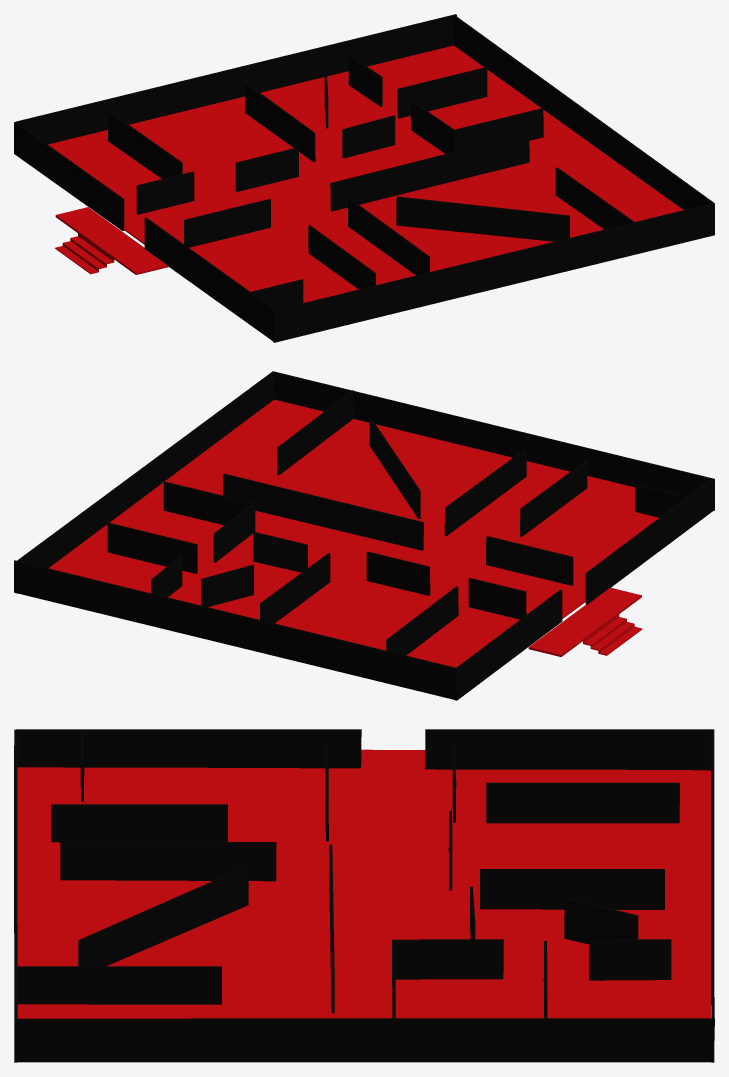
File: SQAURE LAYOUT V2.fbx
3 renders of one model, top to bottom at view 1: azimuth 30°, elevation 25°; view 2: azimuth 150°, elevation 25°; view 3: azimuth 270°, elevation 25°, orthographic. The views are drawn at different scales.
Visible parts, largest first — view 1: Ground_3.048, Wall__3__1.107, Wall__3__1.109, Wall__3__1.108, Wall__3__1.126, Wall__3__1.003, Wall__3__1.045, Wall__3__1.106, Ground_3.041, Wall__3__1.118, Wall__3__1.112, Wall__3__1.128 (+11 smaller); view 2: Ground_3.048, Wall__3__1.109, Wall__3__1.107, Wall__3__1.108, Wall__3__1.126, Wall__3__1.045, Wall__3__1.106, Ground_3.041, Wall__3__1.118, Wall__3__1.112, Wall__3__1.128, Wall__3__1.129 (+12 smaller); view 3: Ground_3.048, Wall__3__1.108, Wall__3__1.045, Wall__3__1.106, Wall__3__1.128, Wall__3__1.116, Wall__3__1.129, Wall__3__1.115, Wall__3__1.001, Wall__3__1.003, Wall__3__1.120, Wall__3__1.119 (+5 smaller).
Part boxes in pixels (<box>): Ground_3.048: <box>48,45,683,302</box>; Wall__3__1.107: <box>273,203,714,342</box>; Wall__3__1.109: <box>15,14,456,144</box>; Wall__3__1.108: <box>453,15,714,209</box>; Wall__3__1.126: <box>330,133,529,211</box>; Wall__3__1.003: <box>396,196,569,241</box>; Wall__3__1.045: <box>144,217,275,340</box>; Wall__3__1.106: <box>14,122,124,230</box>; Ground_3.041: <box>55,207,168,274</box>; Wall__3__1.118: <box>397,67,487,118</box>; Wall__3__1.112: <box>184,199,270,247</box>; Wall__3__1.128: <box>348,198,429,275</box>; Ground_3.048: <box>49,399,659,667</box>; Wall__3__1.109: <box>14,560,456,699</box>; Wall__3__1.107: <box>274,371,714,510</box>; Wall__3__1.108: <box>15,371,274,593</box>; Wall__3__1.126: <box>223,473,423,550</box>; Wall__3__1.045: <box>585,478,713,604</box>; Wall__3__1.106: <box>454,589,562,700</box>; Ground_3.041: <box>528,587,641,656</box>; Wall__3__1.118: <box>107,522,197,573</box>; Wall__3__1.112: <box>486,536,573,585</box>; Wall__3__1.128: <box>444,449,526,535</box>; Wall__3__1.129: <box>277,390,353,475</box>; Ground_3.048: <box>17,767,710,1018</box>; Wall__3__1.108: <box>14,1018,714,1062</box>; Wall__3__1.045: <box>16,729,361,768</box>; Wall__3__1.106: <box>425,729,713,770</box>; Wall__3__1.128: <box>60,842,276,881</box>; Wall__3__1.116: <box>486,782,679,823</box>; Wall__3__1.129: <box>14,966,221,1004</box>; Wall__3__1.115: <box>480,869,664,909</box>; Wall__3__1.001: <box>51,804,227,842</box>; Wall__3__1.003: <box>78,866,248,966</box>; Wall__3__1.120: <box>392,939,503,979</box>; Wall__3__1.119: <box>589,939,671,980</box>.
Size of the model in its own units: 249579 by 21038 by 225803.
